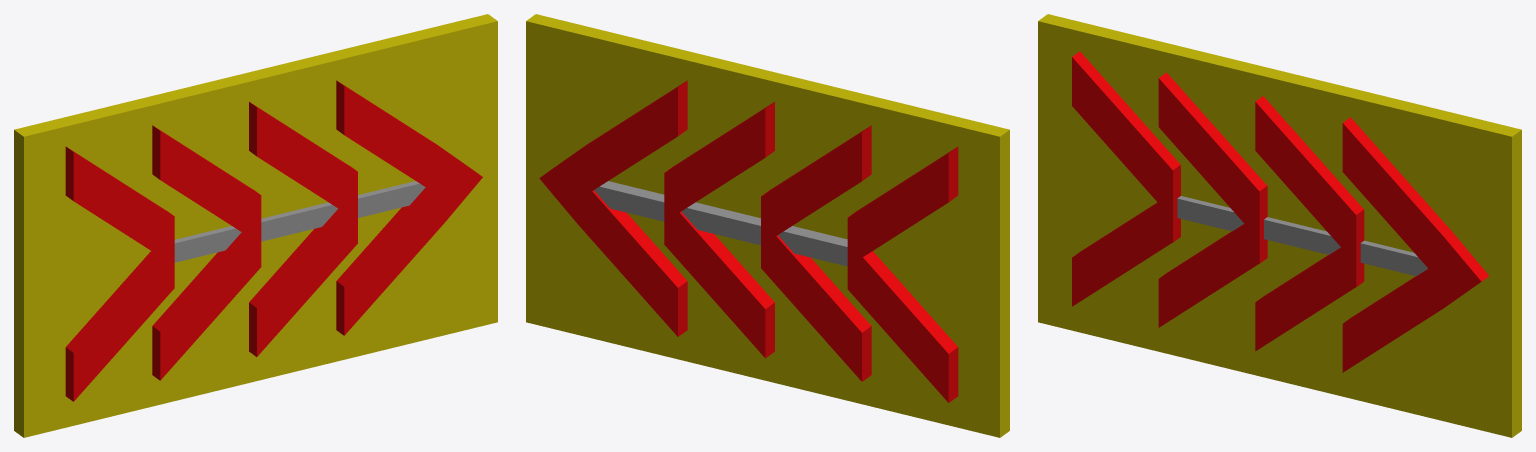
Rendered from panodirectiong.fbx.
The picture shows the model from 3 angles, left to right: view 1: azimuth 30°, elevation 25°; view 2: azimuth 150°, elevation 25°; view 3: azimuth 330°, elevation 25°; orthographic projection.
Parts seen in each view (by area): view 1: Cube, Flèches, Barre; view 2: Cube, Flèches, Barre; view 3: Cube, Flèches, Barre.
Part boxes in pixels (x1,y1,x2,y2): Cube: (14,14,497,437); Flèches: (65,80,482,401); Barre: (174,181,425,262); Cube: (526,14,1009,437); Flèches: (539,80,958,402); Barre: (594,181,847,266); Cube: (1038,14,1521,437); Flèches: (1072,51,1488,372); Barre: (1177,196,1427,276).
Bounding box in the file's own units: 1225 × 743 × 121.
